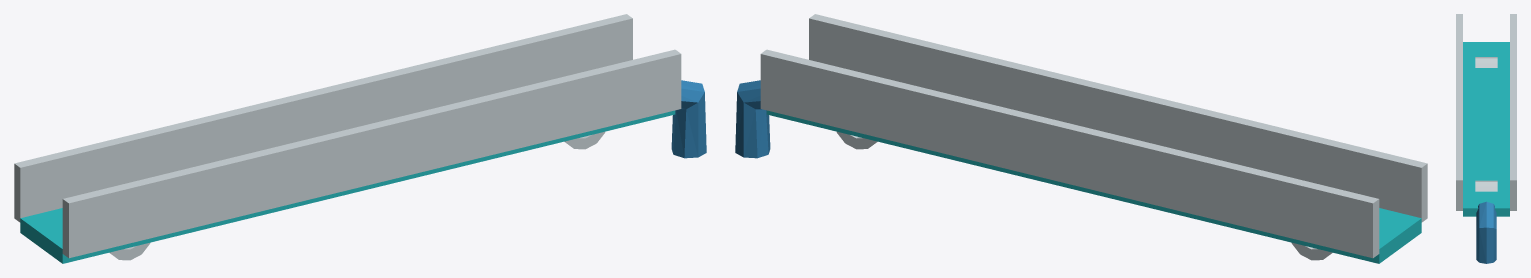
Rendered from AQUA-005.glb.
3 renders of one model, left to right at view 1: azimuth 30°, elevation 25°; view 2: azimuth 150°, elevation 25°; view 3: azimuth 270°, elevation 25°, orthographic. The views are drawn at different scales.
Visible parts, largest first — view 1: AQUA-005; view 2: AQUA-005; view 3: AQUA-005.
Part boxes in pixels (<box>): AQUA-005: <box>14,14,706,263</box>; AQUA-005: <box>735,14,1427,263</box>; AQUA-005: <box>1456,14,1516,263</box>.
Bounding box in the file's own units: 3.79 × 0.685 × 0.54.
